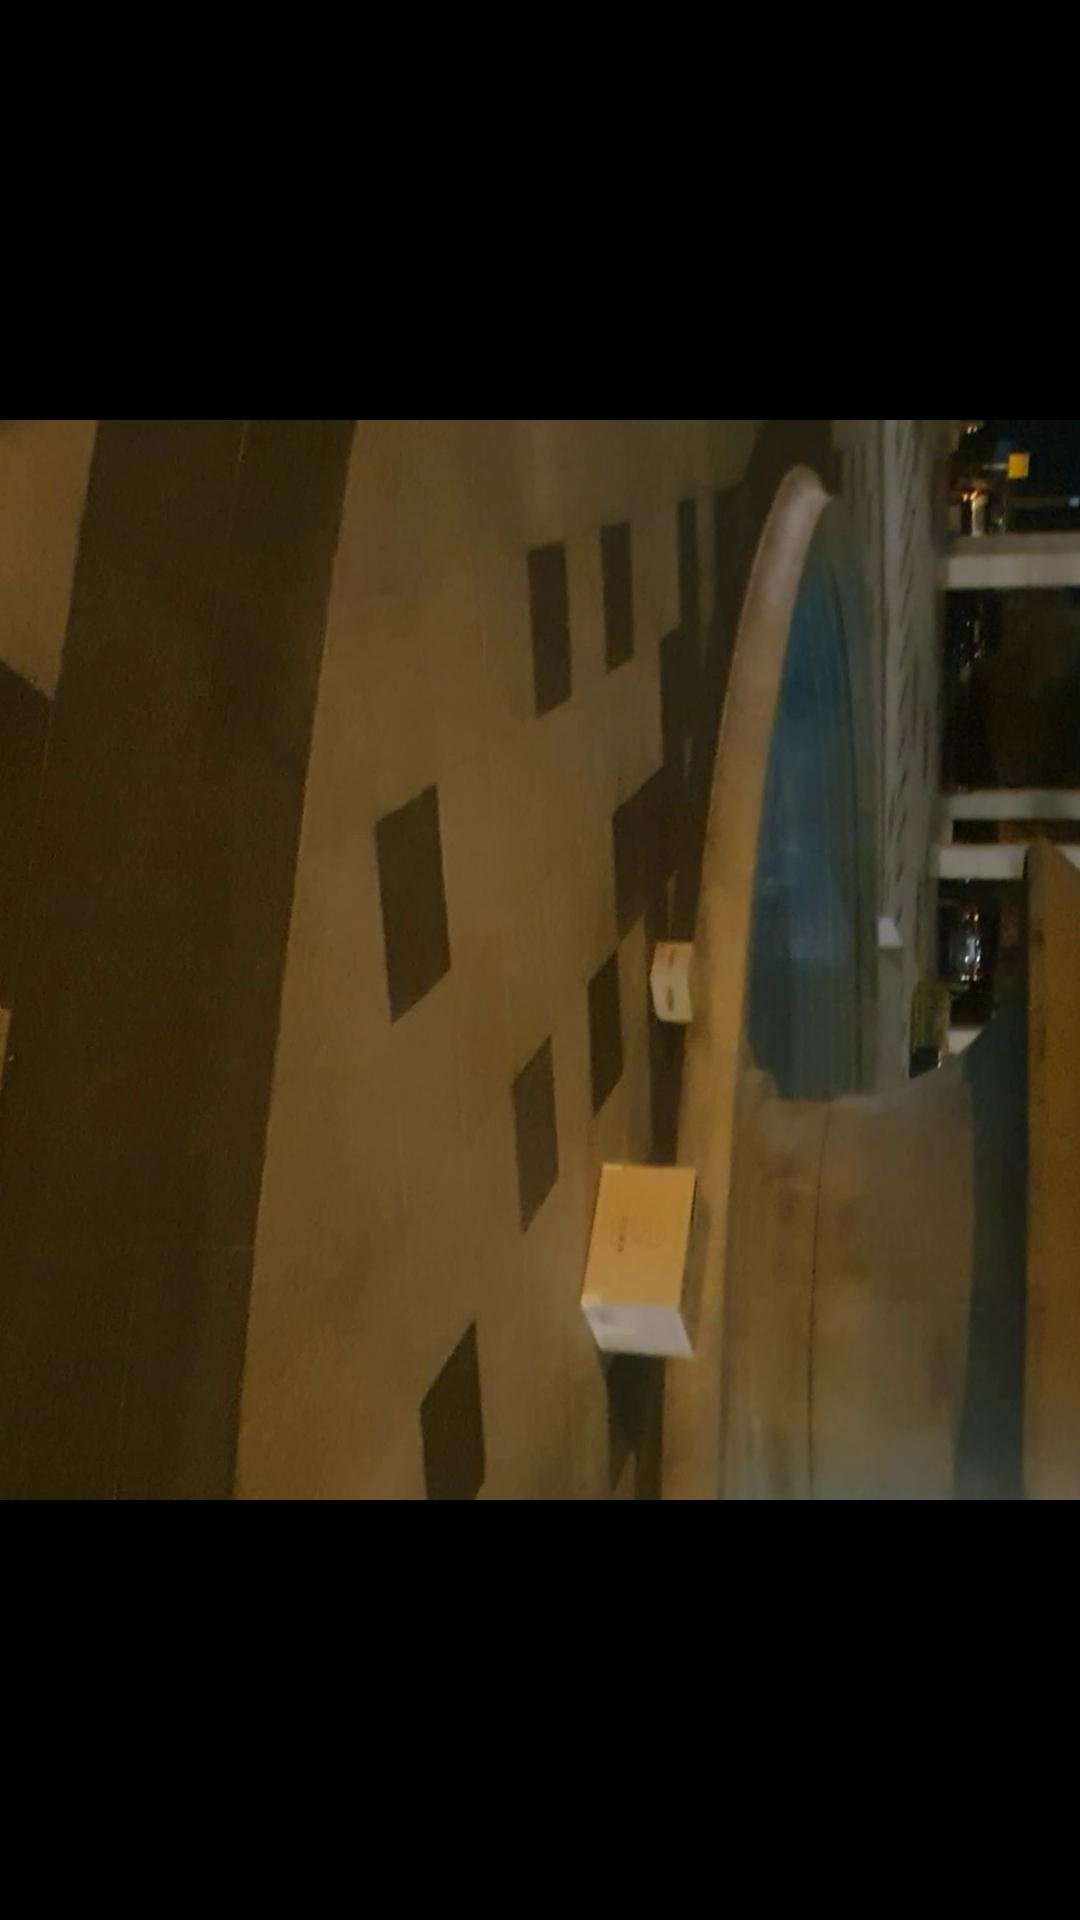Box: (564, 1156, 727, 1365), (637, 934, 717, 1035)
